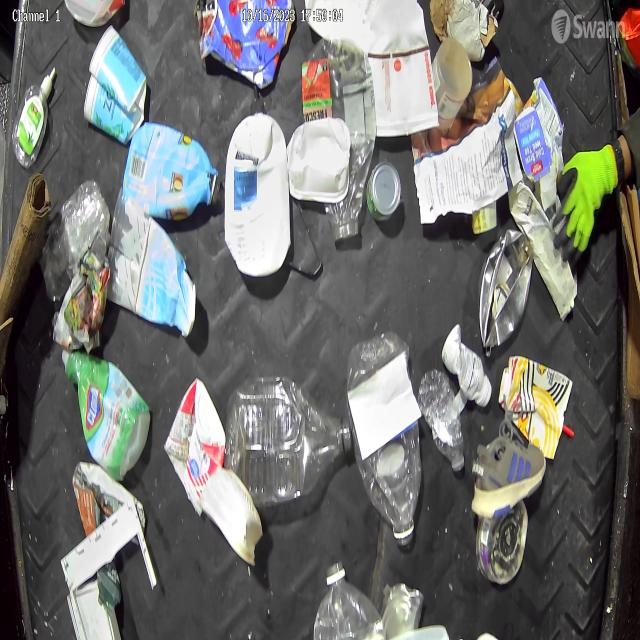can: (479, 230, 533, 350), (367, 156, 401, 224)
milk_jug: (225, 115, 293, 283)
non_white_jug: (115, 203, 196, 334), (198, 3, 292, 90), (127, 123, 210, 220), (90, 27, 148, 152)
plastic_bottle: (226, 378, 346, 507), (349, 336, 422, 536), (62, 343, 150, 484), (420, 368, 467, 470)
